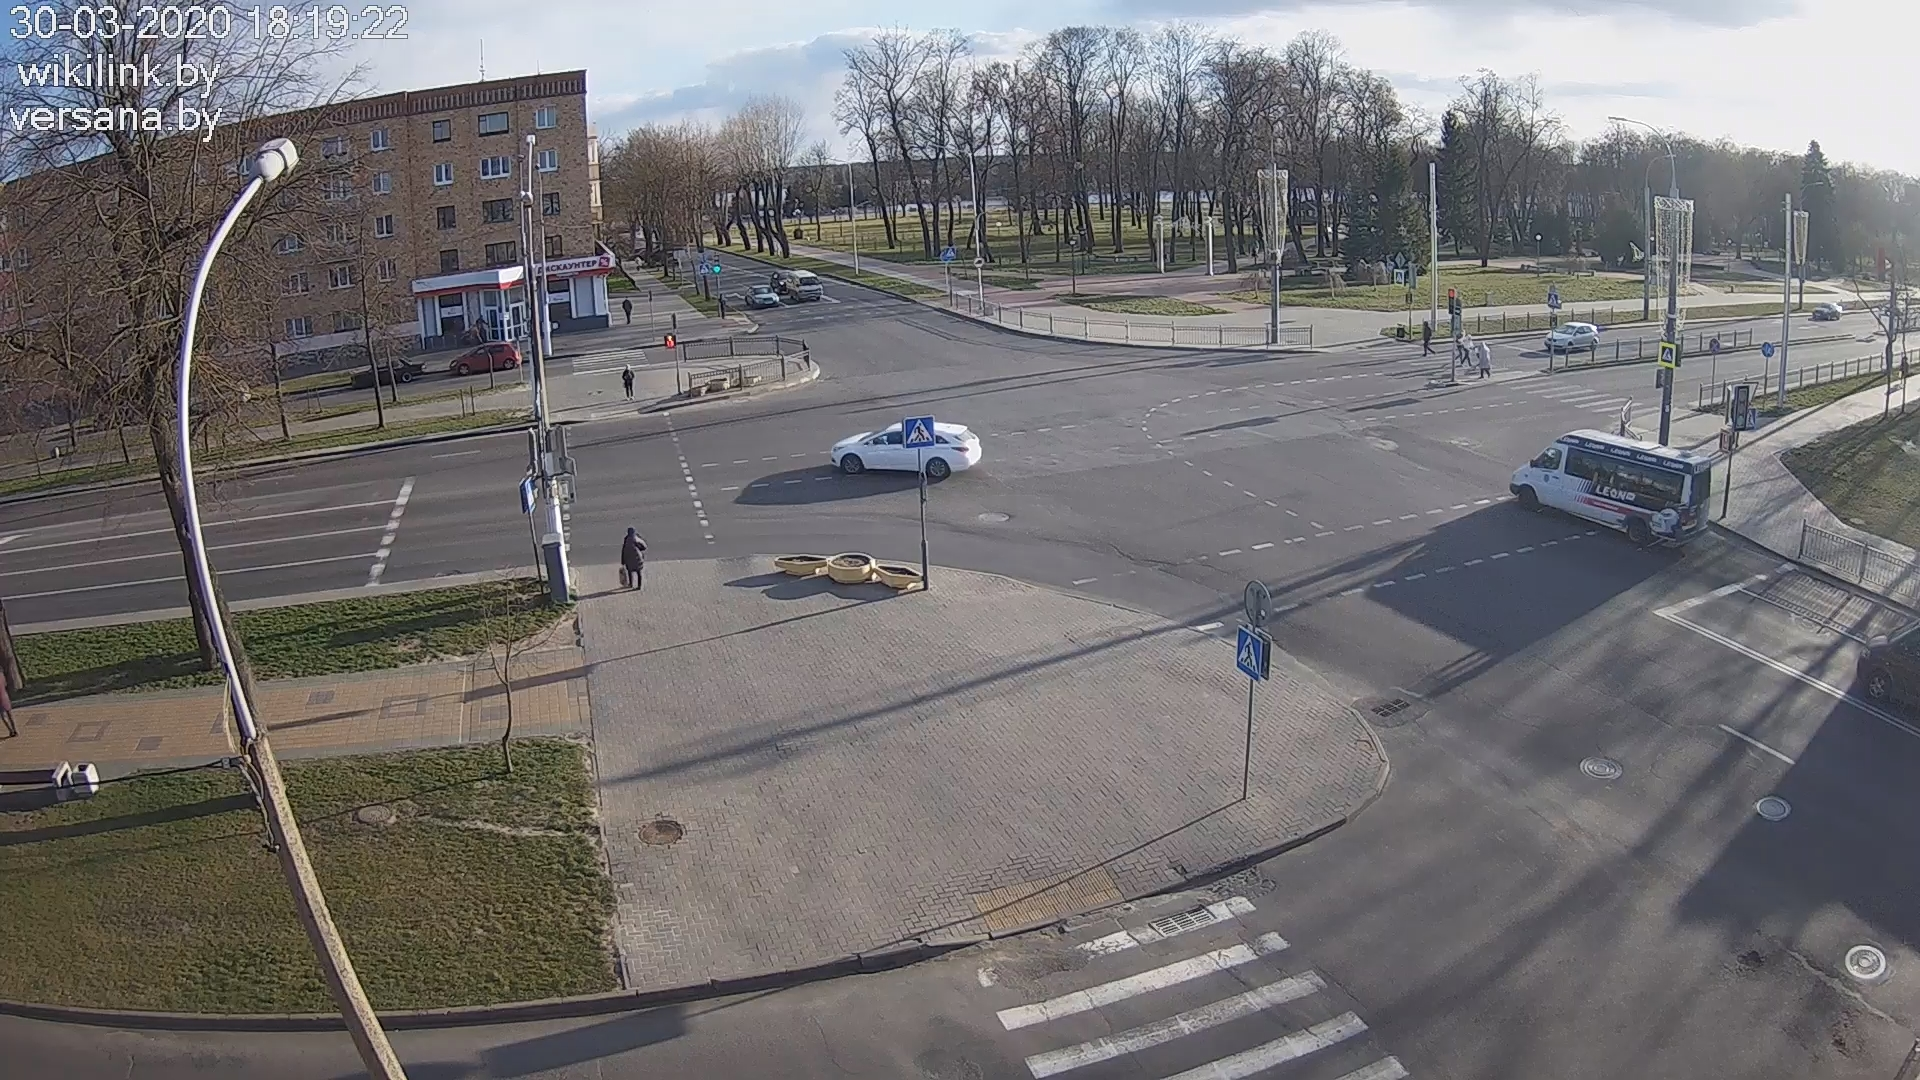car: (1509, 429, 1712, 546), (829, 419, 982, 479), (448, 342, 521, 376), (351, 355, 427, 386), (1544, 320, 1600, 353), (786, 270, 823, 301), (745, 284, 781, 309)
